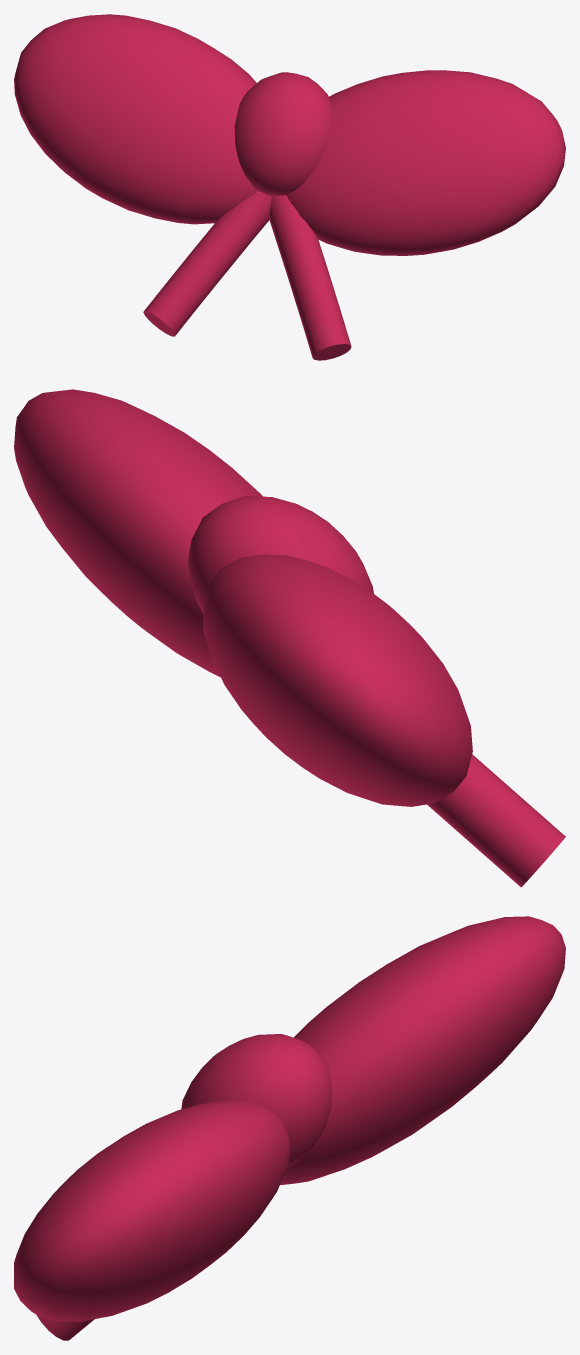
Rendered from wear-bow.glb.
3 renders of one model, top to bottom at view 1: azimuth 30°, elevation 25°; view 2: azimuth 150°, elevation 25°; view 3: azimuth 270°, elevation 25°, orthographic. The views are drawn at different scales.
Parts seen in each view (by area): view 1: bow; view 2: bow; view 3: bow.
Part boxes in pixels (x1,y1,x2,y2): bow: (14,14,565,360); bow: (14,389,565,887); bow: (14,916,565,1340).
Size of the model in its own units: 0.6696 by 0.4082 by 0.5732.
1 material, 1 textured.
